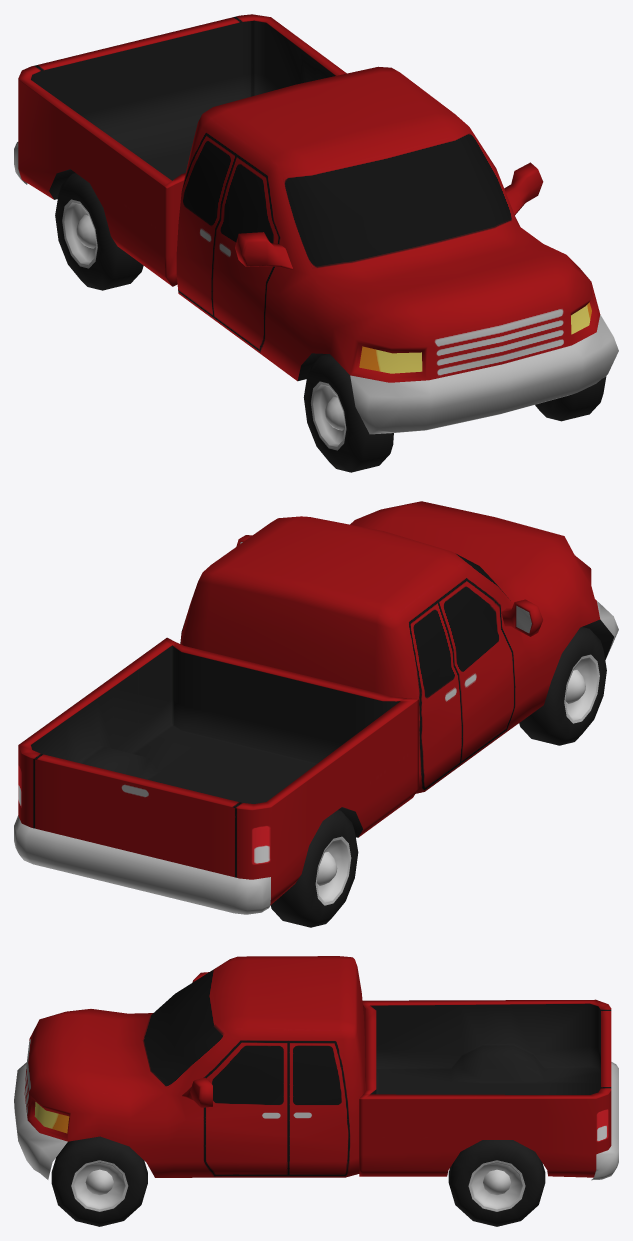
Rendered from Reg Truck 01.FBX.
3 renders of one model, top to bottom at view 1: azimuth 30°, elevation 25°; view 2: azimuth 150°, elevation 25°; view 3: azimuth 270°, elevation 25°, orthographic. The views are drawn at different scales.
Visible parts, largest first — view 1: Regular Truck01; view 2: Regular Truck01; view 3: Regular Truck01.
Part boxes in pixels (x1=…): Regular Truck01: x1=14, y1=14, x2=618, y2=472; Regular Truck01: x1=14, y1=501, x2=618, y2=927; Regular Truck01: x1=14, y1=956, x2=618, y2=1226.
Bounding box in the file's own units: 27.85 × 60.67 × 21.43.
1 material, 1 textured.
